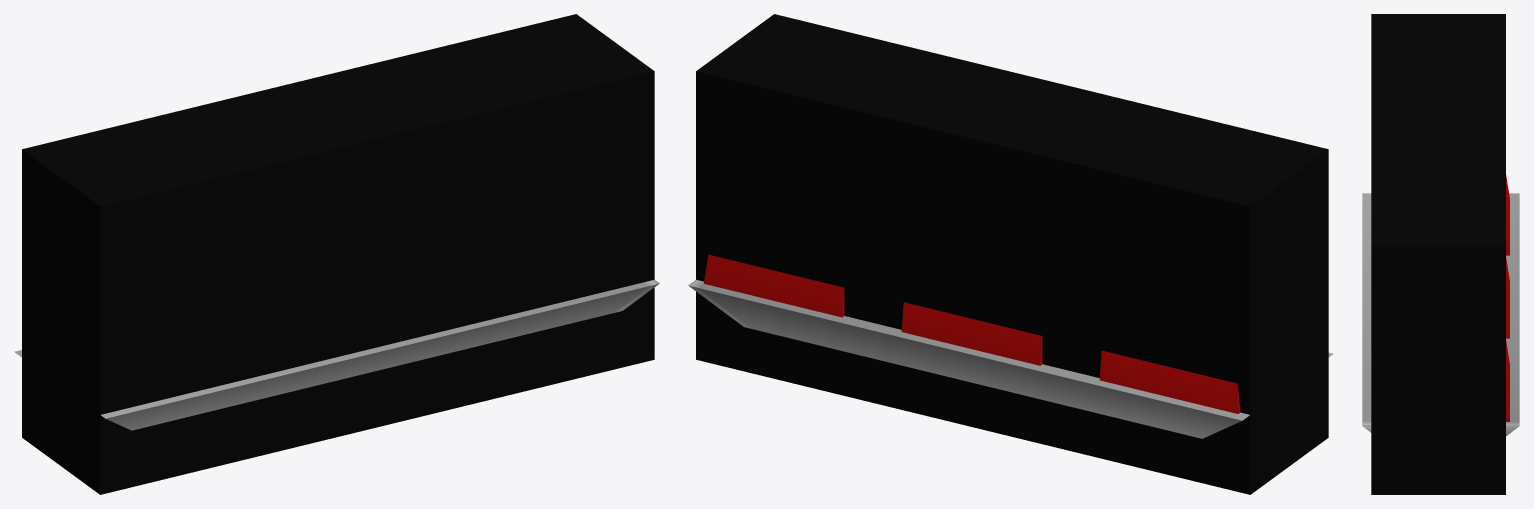
The model's file is subwaysurferstrain3v2.glb.
3 views of the same model, side by side, from view 1: azimuth 30°, elevation 25°; view 2: azimuth 150°, elevation 25°; view 3: azimuth 270°, elevation 25° (orthographic). The views are drawn at different scales.
Parts seen in each view (by area): view 1: trainCollide, train3; view 2: trainCollide, train3; view 3: trainCollide, train3.
Boxes of the visible parts, x1=… form: trainCollide: x1=22, y1=14, x2=654, y2=494; train3: x1=14, y1=279, x2=659, y2=430; trainCollide: x1=696, y1=14, x2=1328, y2=494; train3: x1=688, y1=254, x2=1333, y2=438; trainCollide: x1=1371, y1=14, x2=1505, y2=494; train3: x1=1362, y1=175, x2=1519, y2=436.
Size of the model in its own units: 14 by 6.96 by 4.
Materials: 2 (2 with a texture image).
